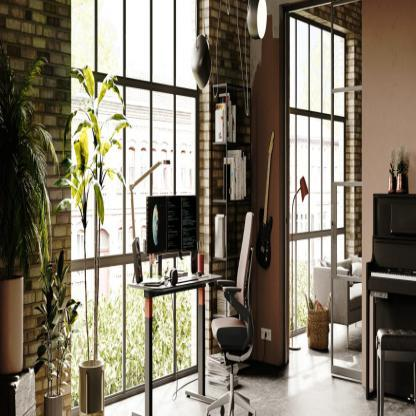chair: (206, 209, 264, 416), (375, 315, 416, 416)
light: (125, 154, 175, 289)
sofa: (310, 252, 363, 335)
table: (135, 269, 224, 416)
